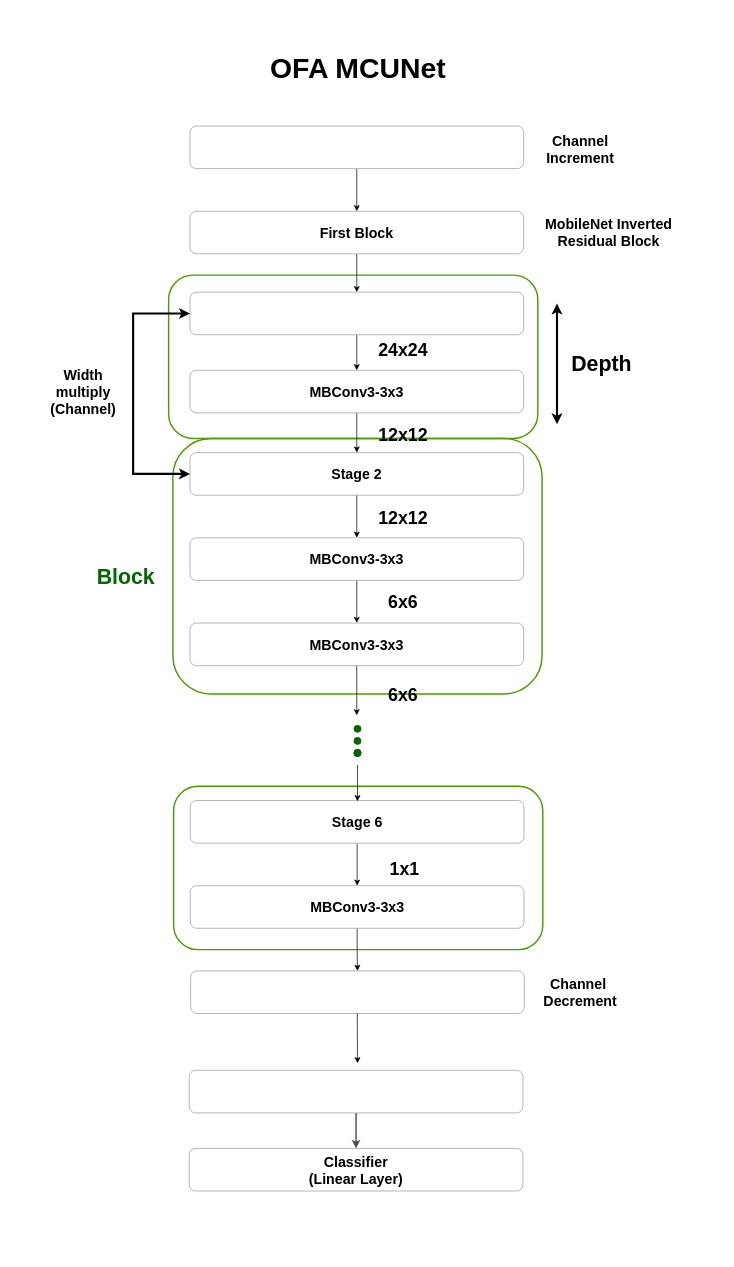
Some shapes in this 734 by 1267 pixel diagram are drawn without their labels. The shapes that lost their labels are listed below. From the top down, each one's centre as x and y in pixels, then its label:
At point (356, 147): "First Convolution".
At point (356, 313): "Stage 1".
At point (357, 992): "Last Block".
At point (356, 1091): "Feature Mix Layer (1x1 channel decrement Convolution)".
